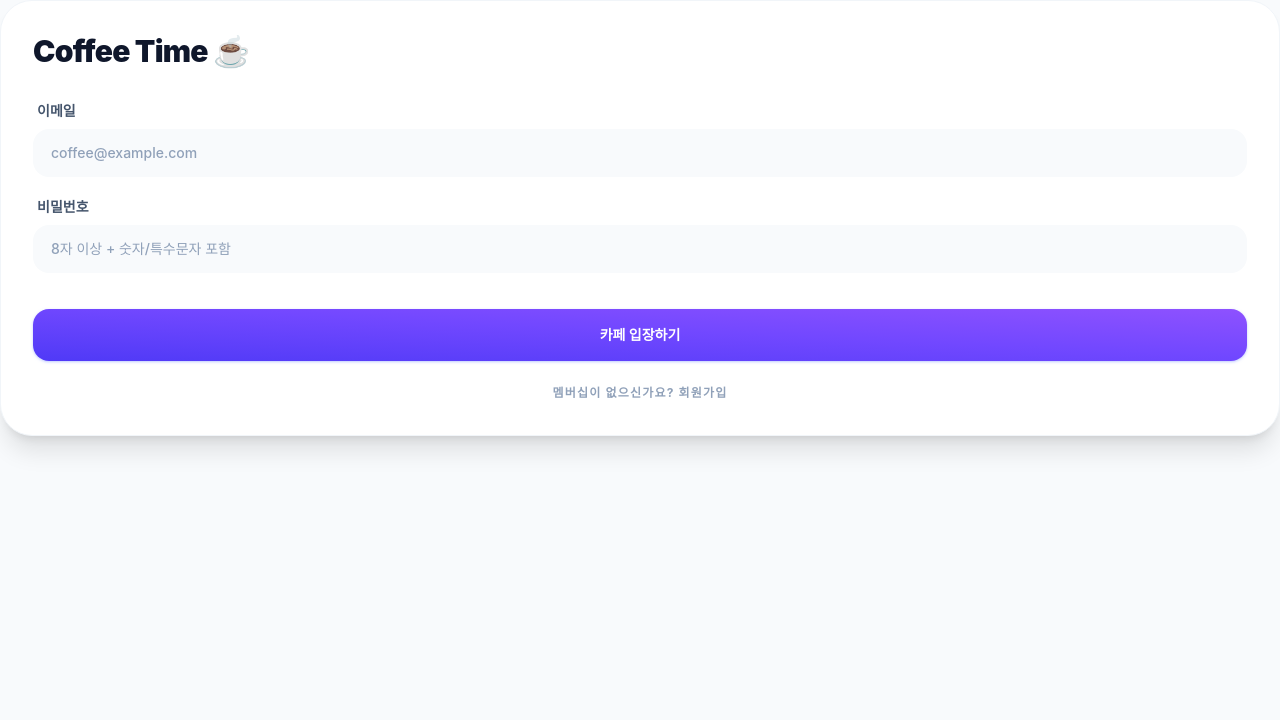
Scenario: AuthForm Component › switches to sign-up mode when the toggle button is clicked
The width and height of the screenshot is (1280, 720).
Click the button "멤버십이 없으신가요? 회원가입" at (640,393), box [33,385,1247,401]
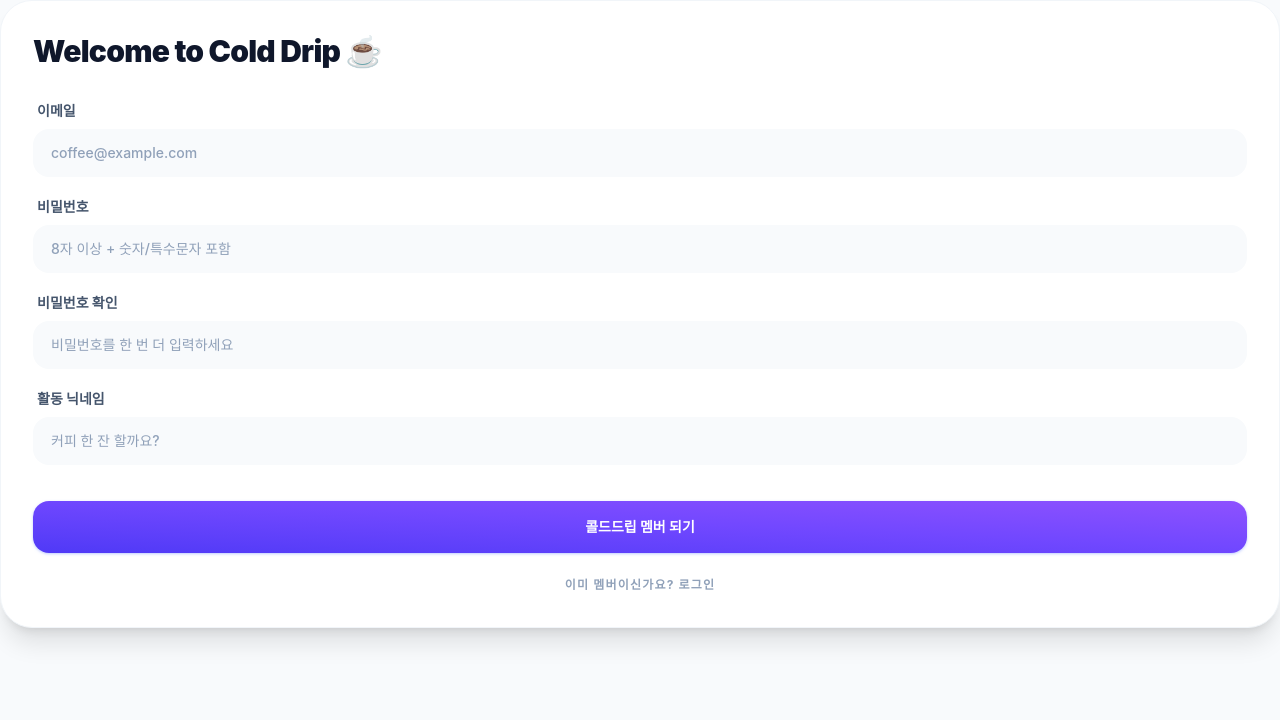
Now the heading "Welcome to Cold Drip ☕️" is shown, box [33,33,382,69]
Now the password field labelled "비밀번호 확인" is shown, box [33,321,1247,369]
